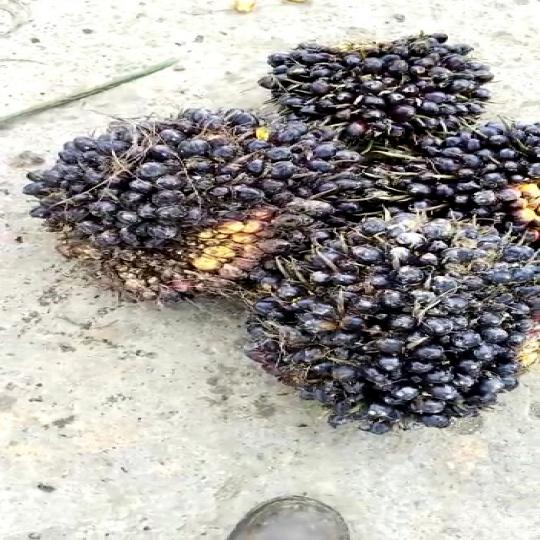mentah: (26, 94, 364, 298), (254, 208, 540, 424), (231, 43, 506, 154)
